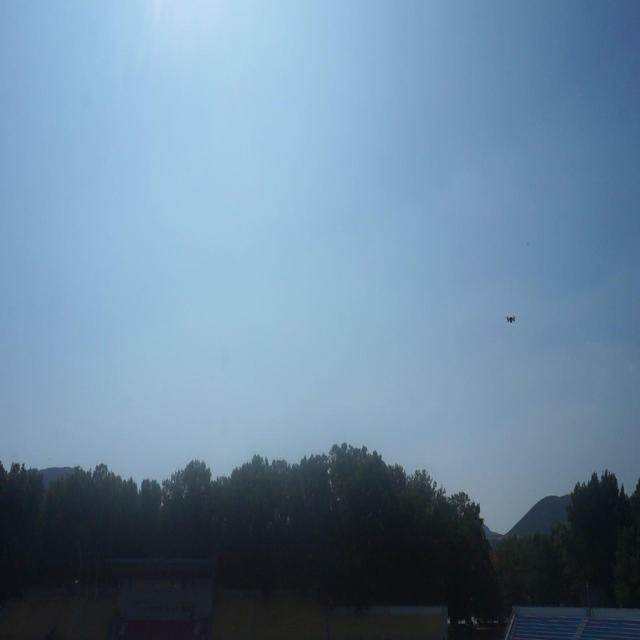drone: (502, 312, 520, 328)
